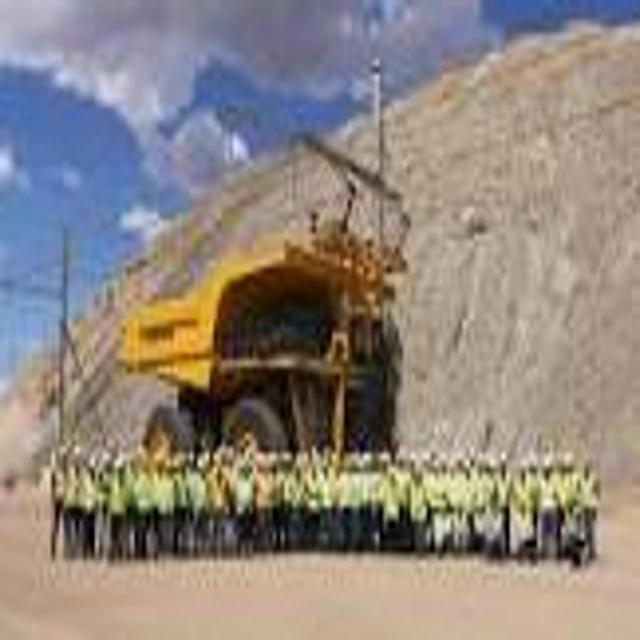dump_truck: (113, 180, 402, 458)
